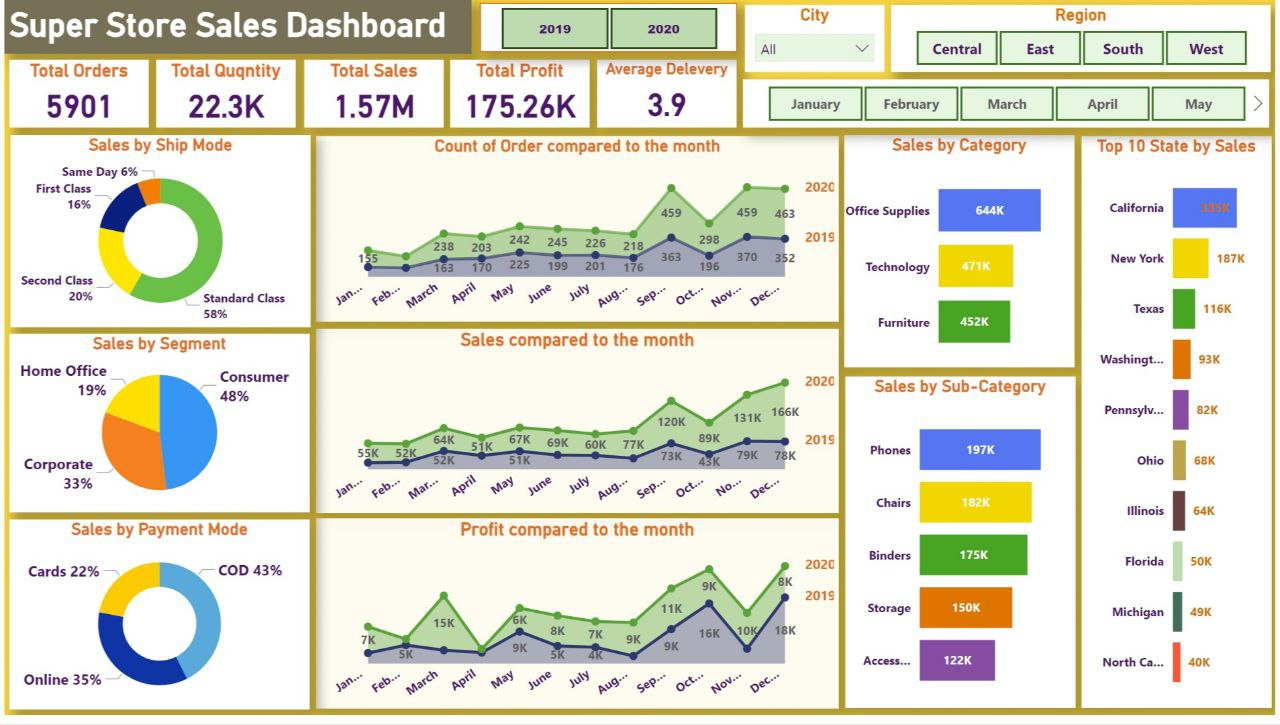

Layout of this report page (visuals, bound fields, positions):
{"tool":"powerbi","page":{"name":"Sales","canvas":[1280,720],"ordinal":0},"visuals":[{"type":"textbox","box":[0,0,470.2,54],"z":0},{"type":"textbox","box":[0,0,470.2,54],"z":1000},{"type":"card","title":"Total Orders","fields":{"Values":["CountNonNull(SuperStore Sales.Order ID)"]},"box":[4.5,59.6,140.6,68.6],"z":2000},{"type":"card","title":"Total Quqntity","fields":{"Values":["Sum(SuperStore Sales.Quantity)"]},"box":[153,59.6,140.6,68.6],"z":3000},{"type":"card","title":"Total Sales","fields":{"Values":["Sum(SuperStore Sales.Sales)"]},"box":[301.5,59.6,140.6,68.6],"z":4000},{"type":"card","title":"Total Profit","fields":{"Values":["Sum(SuperStore Sales.Profit)"]},"box":[448.9,59.6,140.6,68.6],"z":5000},{"type":"card","title":"Average Delevery","fields":{"Values":["Avg(SuperStore Sales.Avg Delivery)"]},"box":[597.4,59.6,140.6,68.6],"z":6000},{"type":"slicer","fields":{"Values":["SuperStore Sales.Order Date.Variation.Date Hierarchy.Year"]},"box":[479.2,3.4,258.8,49.5],"z":7000},{"type":"stackedAreaChart","title":"Count of Order  compared to the month","fields":{"Y":["CountNonNull(SuperStore Sales.Order ID)"],"Category":["SuperStore Sales.Order Date.Variation.Date Hierarchy.Month","SuperStore Sales.Order Date.Variation.Date Hierarchy.Day"],"Series":["SuperStore Sales.Order Date.Variation.Date Hierarchy.Year"]},"box":[313.9,137.2,526.5,186.8],"z":8000},{"type":"stackedAreaChart","title":"Sales compared to the month","fields":{"Category":["SuperStore Sales.Order Date.Variation.Date Hierarchy.Month","SuperStore Sales.Order Date.Variation.Date Hierarchy.Day"],"Series":["SuperStore Sales.Order Date.Variation.Date Hierarchy.Year"],"Y":["Sum(SuperStore Sales.Sales)"]},"box":[313.9,330.8,526.5,185.6],"z":9000},{"type":"stackedAreaChart","title":"Profit compared to the month","fields":{"Y":["Sum(SuperStore Sales.Profit)"],"Category":["SuperStore Sales.Order Date.Variation.Date Hierarchy.Month","SuperStore Sales.Order Date.Variation.Date Hierarchy.Day"],"Series":["SuperStore Sales.Order Date.Variation.Date Hierarchy.Year"]},"box":[313.9,522,526.5,191.2],"z":10000},{"type":"donutChart","title":" Sales by Ship Mode","fields":{"Category":["SuperStore Sales.Ship Mode"],"Y":["Sum(SuperStore Sales.Sales)"]},"box":[5.6,136.1,302.6,193.5],"z":11000},{"type":"pieChart","title":" Sales by Segment","fields":{"Category":["SuperStore Sales.Segment"],"Y":["Sum(SuperStore Sales.Sales)"]},"box":[4.5,336.4,302.6,180],"z":12000},{"type":"donutChart","title":" Sales by Payment Mode","fields":{"Category":["SuperStore Sales.Payment Mode"],"Y":["Sum(SuperStore Sales.Sales)"]},"box":[4.5,523.1,302.6,191.2],"z":13000},{"type":"barChart","title":" Sales by Category","fields":{"Category":["SuperStore Sales.Category"],"Y":["Sum(SuperStore Sales.Sales)"]},"box":[846,136.1,232,234],"z":14000},{"type":"barChart","title":" Sales by Sub-Category","fields":{"Category":["SuperStore Sales.Sub-Category"],"Y":["Sum(SuperStore Sales.Sales)"]},"box":[847.1,379.1,231.8,334.1],"z":15000},{"type":"barChart","title":"Top 10 State by Sales","fields":{"Y":["Sum(SuperStore Sales.Sales)"],"Category":["SuperStore Sales.State"]},"box":[1084.5,137.2,191.2,576],"z":16000},{"type":"slicer","title":"Region","fields":{"Values":["SuperStore Sales.Region"]},"box":[893.2,4.5,382.5,67.5],"z":17000},{"type":"slicer","title":"City","fields":{"Values":["SuperStore Sales.City"]},"box":[745.9,4.5,140.6,67.5],"z":18000},{"type":"slicer","title":"Month","fields":{"Values":["SuperStore Sales.Order Date.Variation.Date Hierarchy.Month"]},"box":[743.6,79.9,529.9,48.4],"z":19000}]}

Visuals, with their boxes in screenshot pixels (x1, y1, x2, y2), scaled from the page's 1280x720 canvas onto the 1280x725 screenshot:
textbox: <region>0, 0, 470, 54</region>
textbox: <region>0, 0, 470, 54</region>
"Total Orders" card: <region>4, 60, 145, 129</region>
"Total Quqntity" card: <region>153, 60, 294, 129</region>
"Total Sales" card: <region>302, 60, 442, 129</region>
"Total Profit" card: <region>449, 60, 590, 129</region>
"Average Delevery" card: <region>597, 60, 738, 129</region>
slicer - SuperStore Sales.Order Date.Variation.Date Hierarchy.Year: <region>479, 3, 738, 53</region>
"Count of Order  compared to the month" stackedAreaChart: <region>314, 138, 840, 326</region>
"Sales compared to the month" stackedAreaChart: <region>314, 333, 840, 520</region>
"Profit compared to the month" stackedAreaChart: <region>314, 526, 840, 718</region>
" Sales by Ship Mode" donutChart: <region>6, 137, 308, 332</region>
" Sales by Segment" pieChart: <region>4, 339, 307, 520</region>
" Sales by Payment Mode" donutChart: <region>4, 527, 307, 719</region>
" Sales by Category" barChart: <region>846, 137, 1078, 373</region>
" Sales by Sub-Category" barChart: <region>847, 382, 1079, 718</region>
"Top 10 State by Sales" barChart: <region>1084, 138, 1276, 718</region>
"Region" slicer: <region>893, 5, 1276, 72</region>
"City" slicer: <region>746, 5, 886, 72</region>
"Month" slicer: <region>744, 80, 1274, 129</region>
